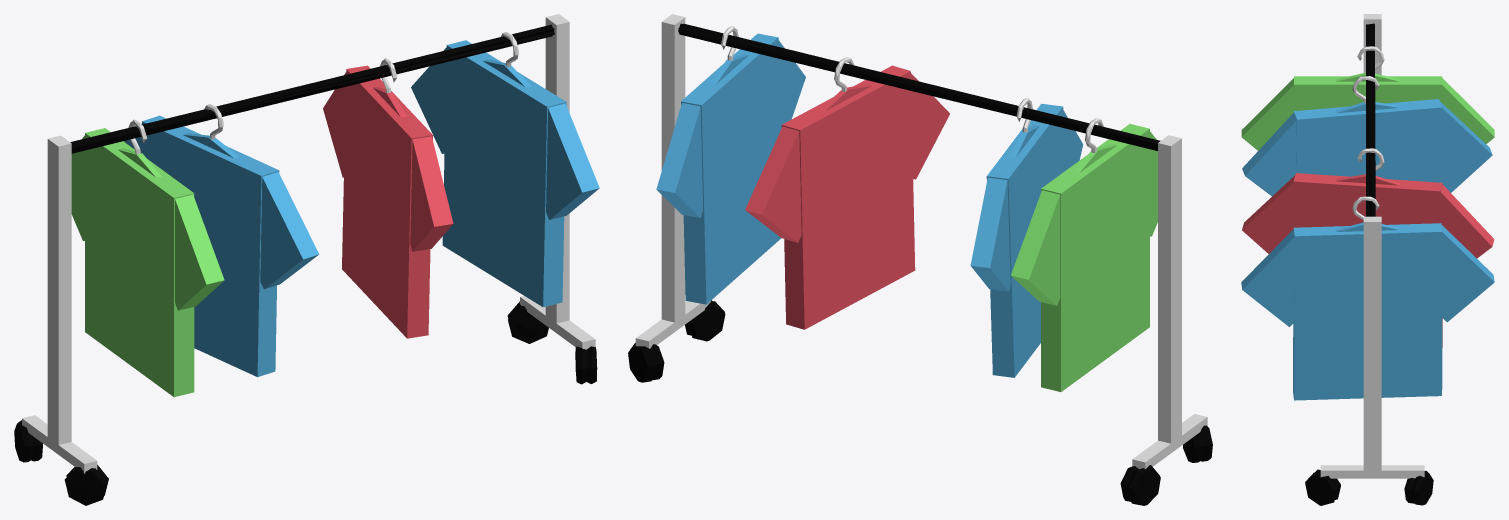
The model's file is rack_3.fbx.
3 renders of one model, left to right at view 1: azimuth 30°, elevation 25°; view 2: azimuth 150°, elevation 25°; view 3: azimuth 270°, elevation 25°, orthographic. The views are drawn at different scales.
Visible parts, largest first — view 1: Plane.004, Plane.001, Plane.003, Plane.002, Stand.R, Bar, Stand.L, Roll.R_1, Roll.L_2, Roll.R_2, Roll.L_1; view 2: Plane.003, Plane.001, Plane.004, Plane.002, Stand.R, Stand.L, Bar, Roll.R_2, Roll.L_2, Roll.L_1, Roll.R_1; view 3: Plane.004, Plane.002, Plane.003, Plane.001, Stand.L, Bar, Roll.L_1, Roll.L_2, Stand.R.
Part boxes in pixels (x1,y1,x2,y2): Plane.004: [411, 40, 599, 307]; Plane.001: [71, 128, 224, 397]; Plane.003: [323, 65, 453, 338]; Plane.002: [124, 115, 319, 377]; Stand.R: [22, 135, 97, 473]; Bar: [70, 24, 554, 153]; Stand.L: [520, 14, 595, 349]; Roll.R_1: [64, 465, 108, 505]; Roll.L_2: [507, 301, 548, 343]; Roll.R_2: [14, 420, 42, 462]; Roll.L_1: [575, 346, 597, 384]; Plane.003: [745, 65, 949, 329]; Plane.001: [1011, 124, 1157, 391]; Plane.004: [656, 33, 805, 304]; Plane.002: [970, 103, 1083, 377]; Stand.R: [1132, 135, 1207, 469]; Stand.L: [635, 14, 710, 348]; Bar: [678, 23, 1160, 150]; Roll.R_2: [1120, 465, 1160, 505]; Roll.L_2: [628, 343, 664, 382]; Roll.L_1: [685, 300, 725, 341]; Roll.R_1: [1183, 425, 1212, 462]; Plane.004: [1241, 222, 1494, 400]; Plane.002: [1242, 99, 1492, 195]; Plane.003: [1242, 173, 1494, 347]; Plane.001: [1241, 72, 1494, 150]; Stand.L: [1320, 216, 1424, 478]; Bar: [1366, 23, 1375, 216]; Roll.L_1: [1305, 469, 1340, 505]; Roll.L_2: [1404, 470, 1433, 505]; Stand.R: [1363, 14, 1381, 74].
Size of the model in its own units: 561 by 346 by 277.
